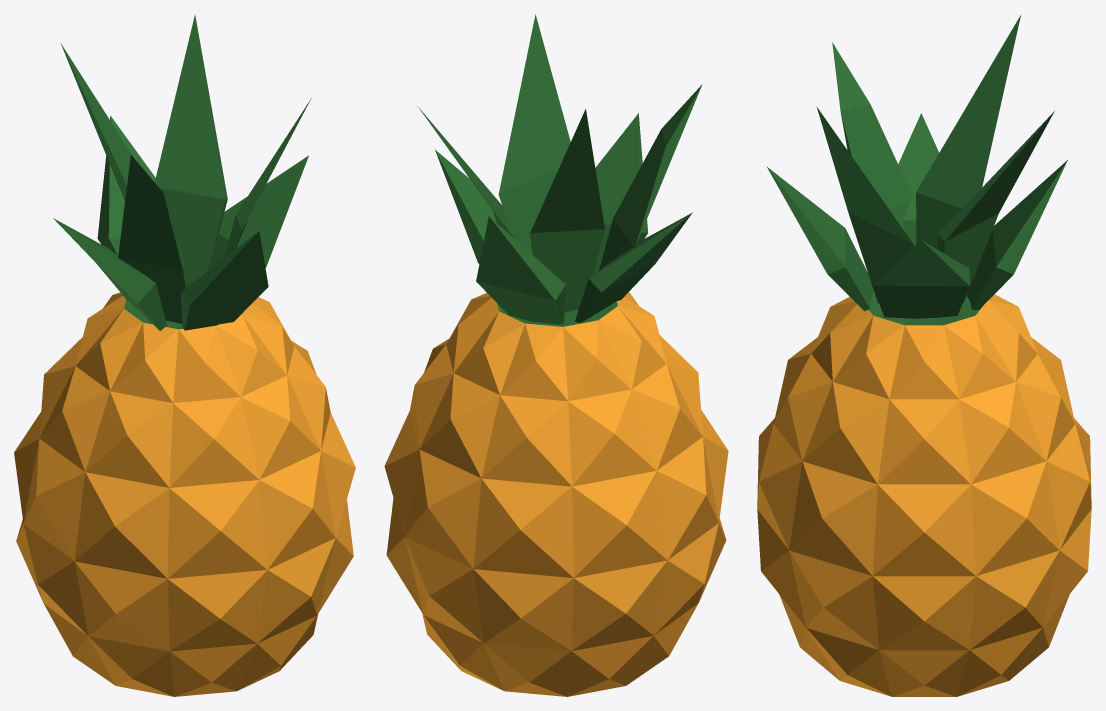
The model's file is pineapple.glb.
3 views of the same model, side by side, from view 1: azimuth 30°, elevation 25°; view 2: azimuth 150°, elevation 25°; view 3: azimuth 270°, elevation 25° (orthographic).
Visible parts, largest first — view 1: pineapple; view 2: pineapple; view 3: pineapple.
Part boxes in pixels (box(x1,y1,x2,y2)): pineapple: box(14, 14, 355, 696); pineapple: box(384, 14, 728, 696); pineapple: box(757, 15, 1091, 696).
Size of the model in its own units: 0.194 by 0.3779 by 0.1864.
1 material, 1 textured.
